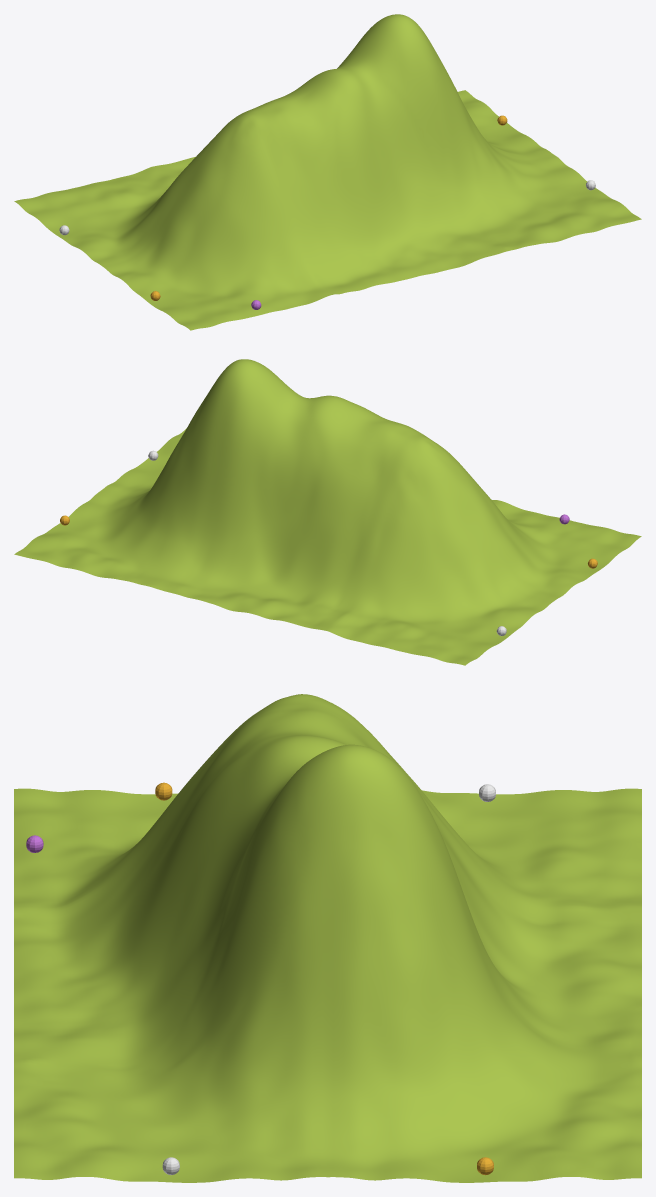
Rendered from marqueurs_coline3.fbx.
3 views of the same model, one above another, from view 1: azimuth 30°, elevation 25°; view 2: azimuth 150°, elevation 25°; view 3: azimuth 270°, elevation 25° (orthographic). The views are drawn at different scales.
Visible parts, largest first — view 1: coline3; view 2: coline3; view 3: coline3.
Part boxes in pixels (left/top/right/bottom): coline3: left=14, top=14, right=641, bottom=330; coline3: left=14, top=359, right=641, bottom=665; coline3: left=14, top=694, right=641, bottom=1182.
Bounding box in the file's own units: 2124 × 784 × 1441.
